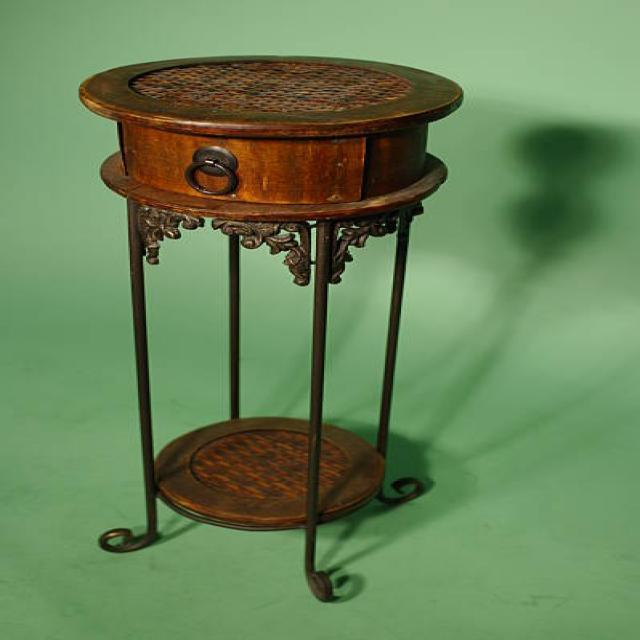table: (79, 54, 464, 602)
